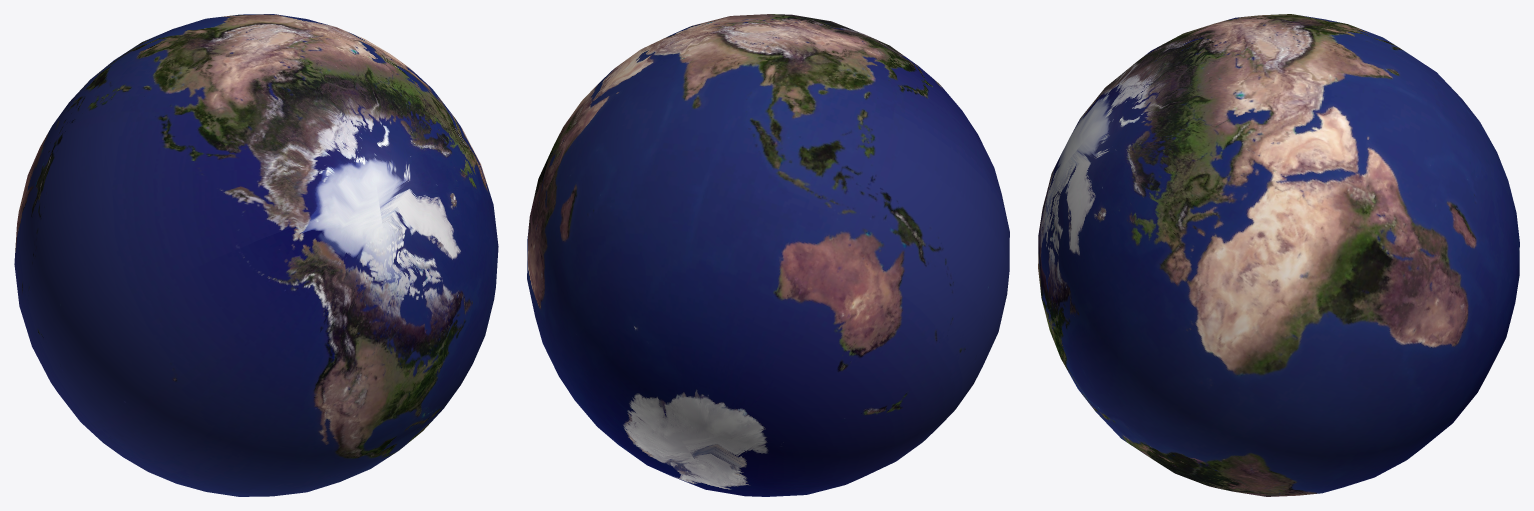
File: Earth.glb
3 views of the same model, side by side, from view 1: azimuth 30°, elevation 25°; view 2: azimuth 150°, elevation 25°; view 3: azimuth 270°, elevation 25° (orthographic).
Parts seen in each view (by area): view 1: Earth; view 2: Earth; view 3: Earth.
Part boxes in pixels (left/top/right/bottom): Earth: left=14, top=14, right=498, bottom=496; Earth: left=527, top=14, right=1009, bottom=496; Earth: left=1038, top=14, right=1519, bottom=496.
Bounding box in the file's own units: 1.7 × 1.71 × 1.71.
1 material, 1 textured.
